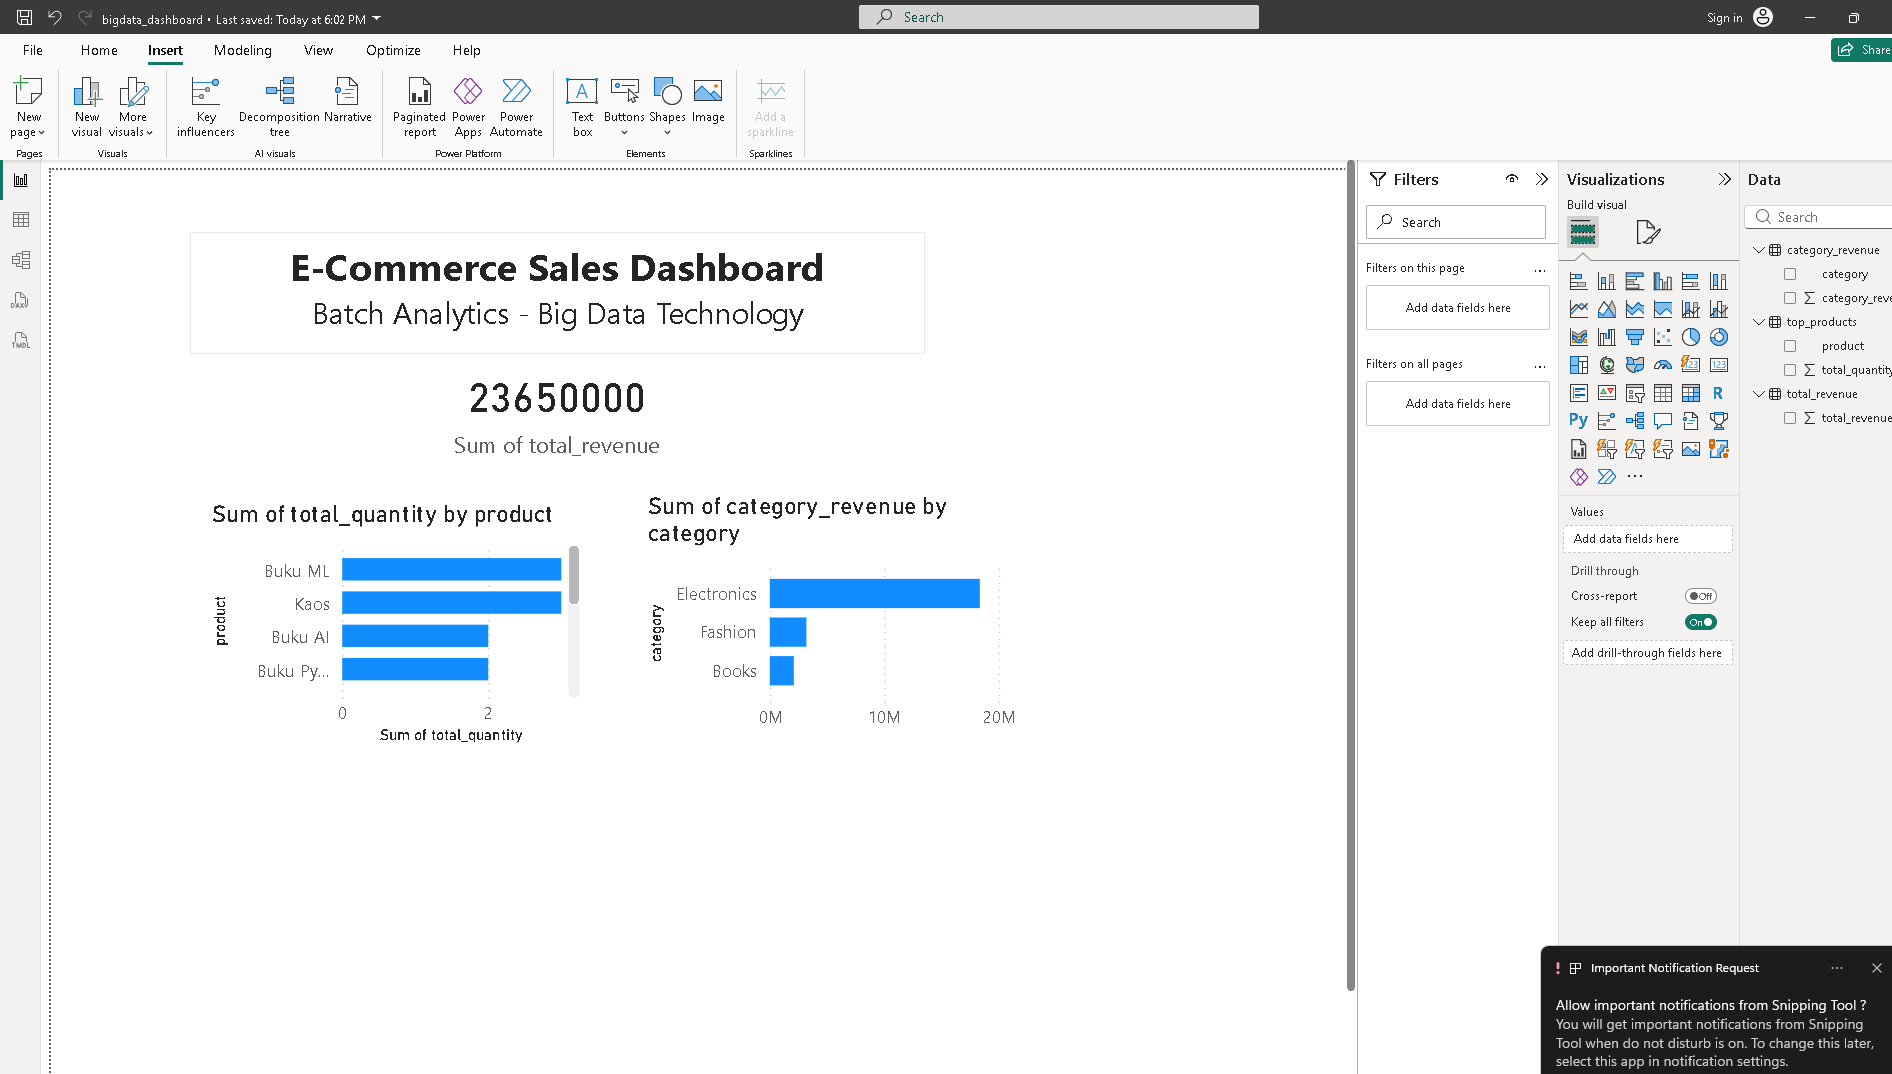

What the dashboard file says about the page in this screenshot:
{"tool":"powerbi","page":{"name":"Page 1","canvas":[1280,720],"ordinal":0},"visuals":[{"type":"card","fields":{"Values":["Sum(total_revenue.total_revenue)"]},"box":[175,126.7,373.3,90],"z":0},{"type":"clusteredBarChart","fields":{"Category":["top_products.product"],"Y":["Sum(top_products.total_quantity)"]},"box":[110,235.8,272.5,178.3],"z":1000},{"type":"clusteredBarChart","fields":{"Category":["category_revenue.category"],"Y":["Sum(category_revenue.category_revenue)"]},"box":[421.7,230,272.5,178.3],"z":2000},{"type":"textbox","box":[99.3,44.3,525,87.1],"z":3000}]}

Visuals, with their boxes on the page's 1280x720 design canvas (x1, y1, x2, y2). These are canvas units, not pixel positions in the 1892x1074 screenshot, which may show the page scaled, cropped or inside an application window:
card - Sum(total_revenue.total_revenue): <bbox>175, 127, 548, 217</bbox>
clusteredBarChart - top_products.product x Sum(top_products.total_quantity): <bbox>110, 236, 382, 414</bbox>
clusteredBarChart - category_revenue.category x Sum(category_revenue.category_revenue): <bbox>422, 230, 694, 408</bbox>
textbox: <bbox>99, 44, 624, 131</bbox>
